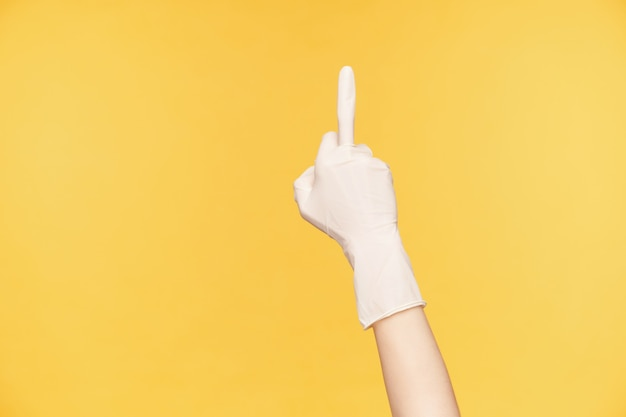insulting_gesture: (290, 64, 400, 245)
